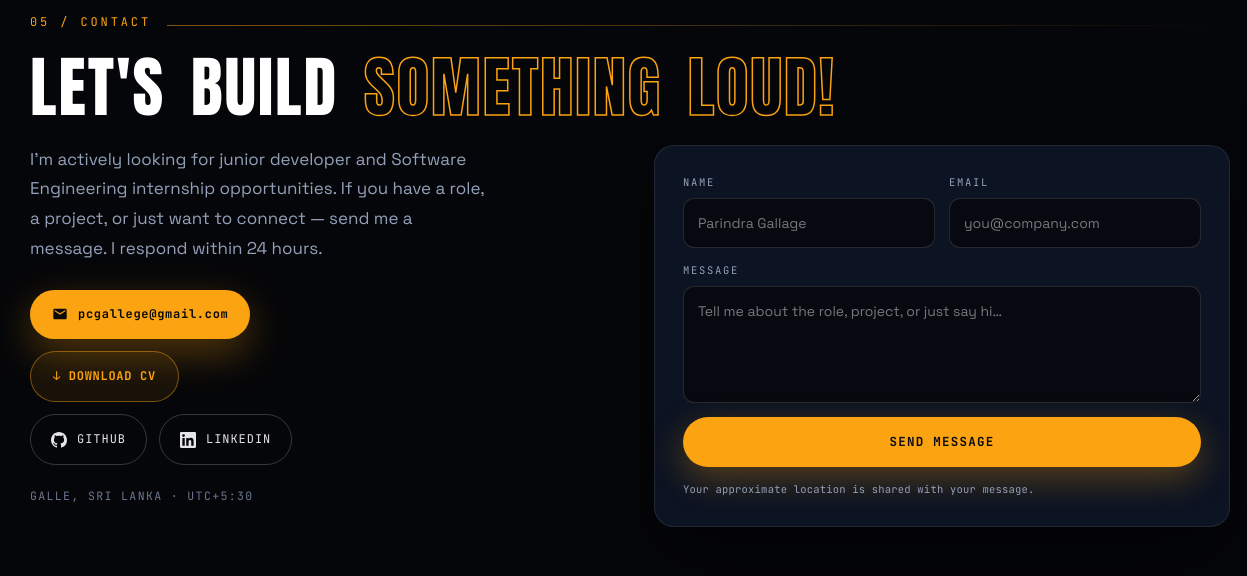
Test: form submission (Step 9 #11, #12, #13) › blocks an empty submit, shows the error, and sends nothing
Click the button "SEND MESSAGE": (942, 442) left=683, top=417, right=1201, bottom=467
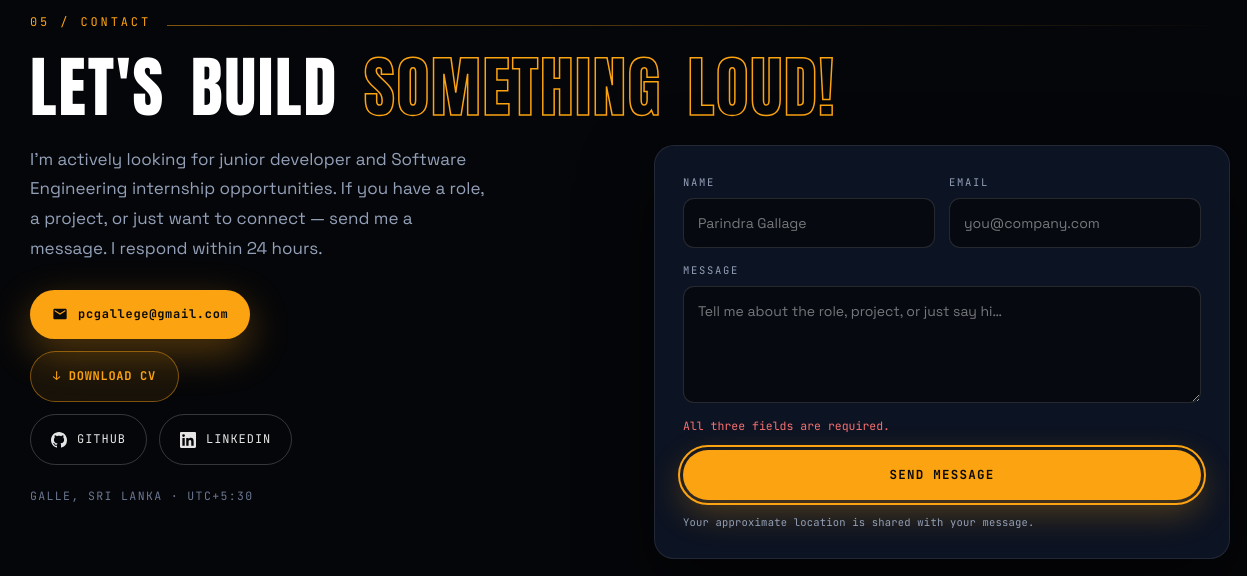
Now the message reads "All three fields are required.", box left=683, top=418, right=890, bottom=433
